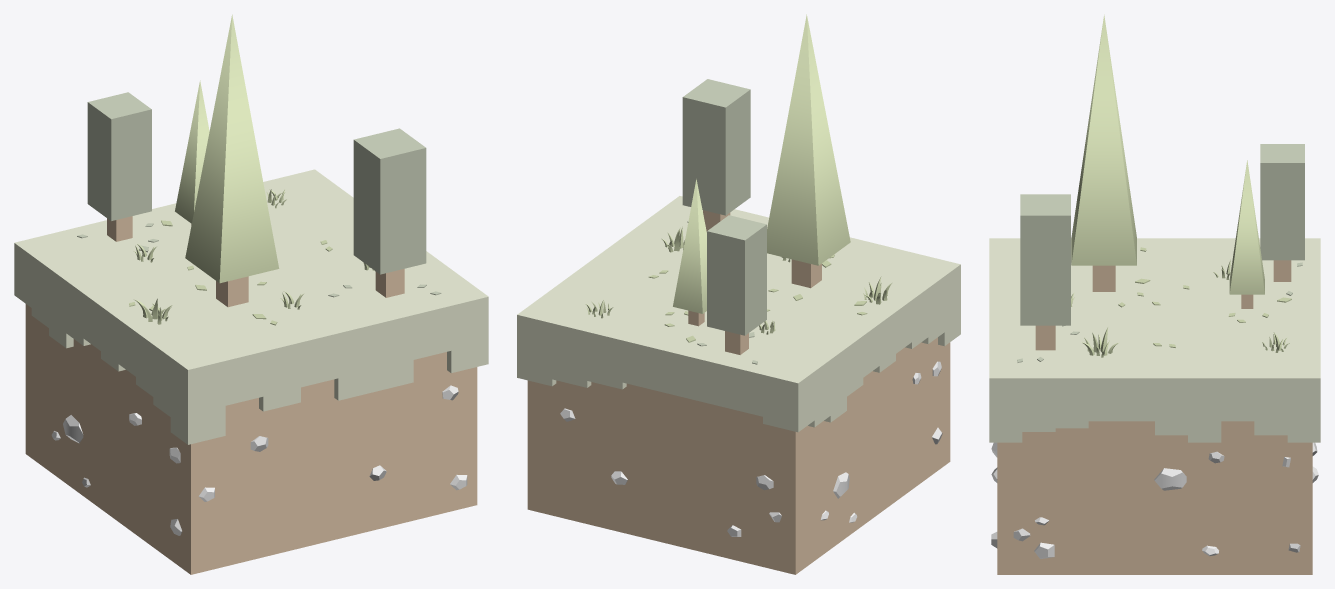
The model's file is PlattformStartTen.dae.
The picture shows the model from 3 angles, left to right: view 1: azimuth 30°, elevation 25°; view 2: azimuth 150°, elevation 25°; view 3: azimuth 270°, elevation 25°; orthographic projection. The views are drawn at different scales.
Visible parts, largest first — view 1: Plattform-LightGreen, Plattform-Brown, Tree-DarkGreen, Tree-Green, Tree-Brown, Plattform-Grey, Grass.001; view 2: Plattform-Brown, Plattform-LightGreen, Tree-DarkGreen, Tree-Green, Tree-Brown, Plattform-Grey, Grass.001; view 3: Plattform-LightGreen, Plattform-Brown, Tree-Green, Tree-DarkGreen, Plattform-Grey, Tree-Brown, Grass.001.
Part boxes in pixels (x1,y1,x2,y2): Plattform-LightGreen: [14, 169, 488, 444]; Plattform-Brown: [25, 304, 477, 574]; Tree-DarkGreen: [87, 92, 426, 274]; Tree-Green: [175, 14, 279, 283]; Tree-Brown: [107, 216, 404, 307]; Plattform-Grey: [51, 385, 467, 535]; Grass.001: [134, 189, 375, 324]; Plattform-Brown: [527, 337, 950, 574]; Plattform-LightGreen: [517, 196, 960, 432]; Tree-DarkGreen: [682, 79, 766, 335]; Tree-Green: [673, 14, 850, 313]; Tree-Brown: [688, 210, 821, 354]; Plattform-Grey: [560, 361, 942, 536]; Grass.001: [586, 227, 891, 334]; Plattform-LightGreen: [989, 238, 1320, 442]; Plattform-Brown: [997, 421, 1312, 574]; Tree-Green: [1071, 14, 1264, 294]; Tree-DarkGreen: [1020, 144, 1304, 325]; Plattform-Grey: [991, 442, 1318, 558]; Tree-Brown: [1035, 260, 1291, 350]; Grass.001: [1071, 260, 1289, 357].
Size of the model in its own units: 215 by 210 by 331.
